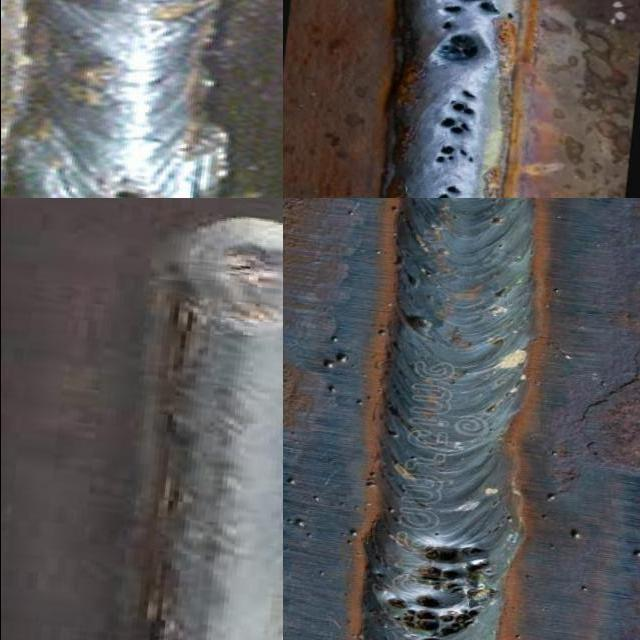defect: (432, 0, 519, 65), (385, 592, 480, 640), (418, 542, 491, 595), (430, 142, 477, 165), (434, 117, 471, 137), (101, 185, 157, 198), (446, 99, 477, 115), (434, 180, 461, 198), (459, 88, 477, 99)
